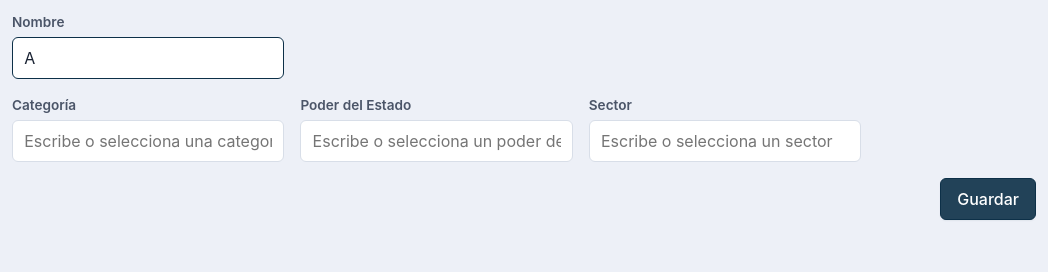
Test case: InstitutionForm › lets the user pick a classification from the autocomplete options
Click the dropdown labelled "Categoría": (148, 141) [12, 120, 284, 162]
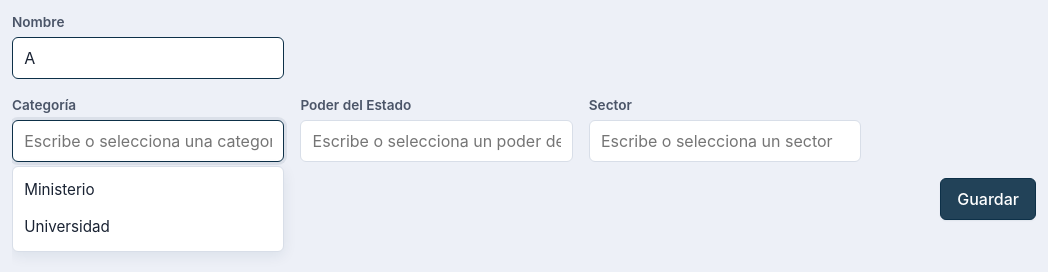
Click the option "Ministerio": (59, 189) [24, 180, 95, 198]
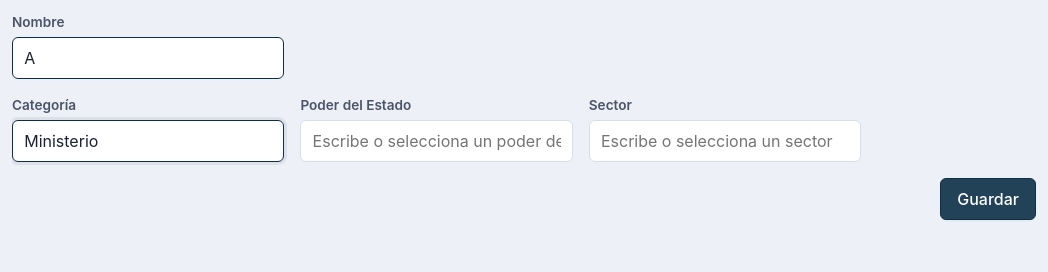
Expected: the dropdown labelled "Categoría" holds "Ministerio", [12, 120, 284, 162]
